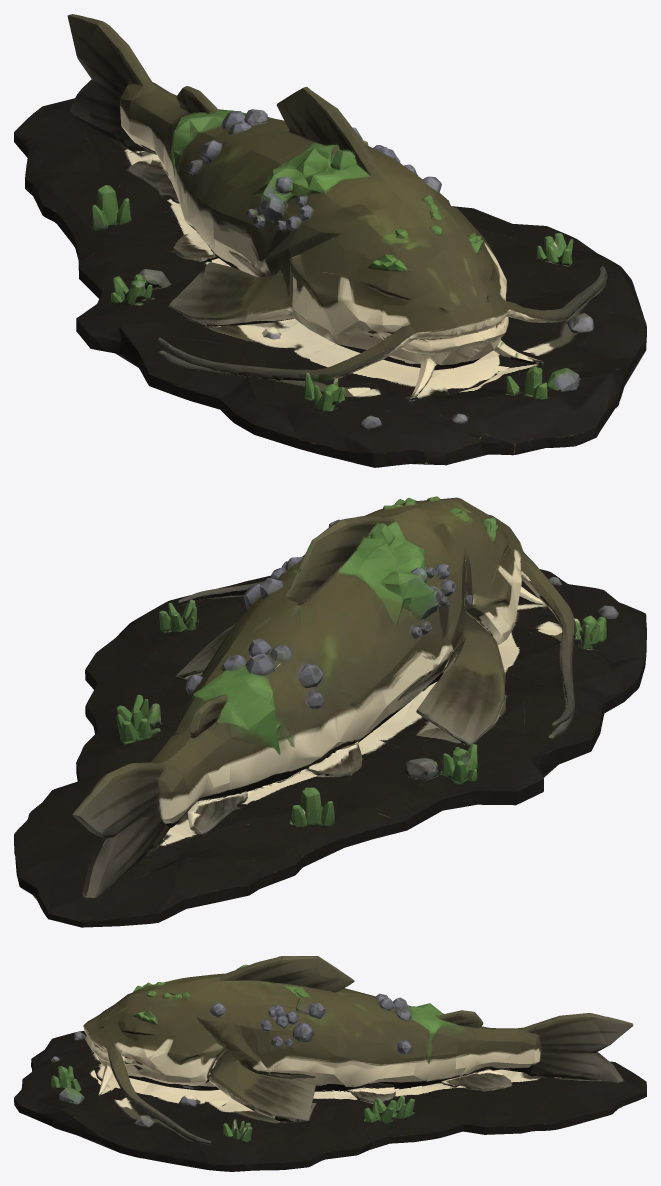
File: giant_catfish.glb
3 renders of one model, top to bottom at view 1: azimuth 30°, elevation 25°; view 2: azimuth 150°, elevation 25°; view 3: azimuth 270°, elevation 25°, orthographic. The views are drawn at different scales.
Visible parts, largest first — view 1: output_unwrapped; view 2: output_unwrapped; view 3: output_unwrapped.
Part boxes in pixels (<box>): output_unwrapped: <box>14,14,646,467</box>; output_unwrapped: <box>14,496,646,927</box>; output_unwrapped: <box>14,956,646,1171</box>.
Bounding box in the file's own units: 4.01 × 1.65 × 7.
Materials: 1 (1 with a texture image).
